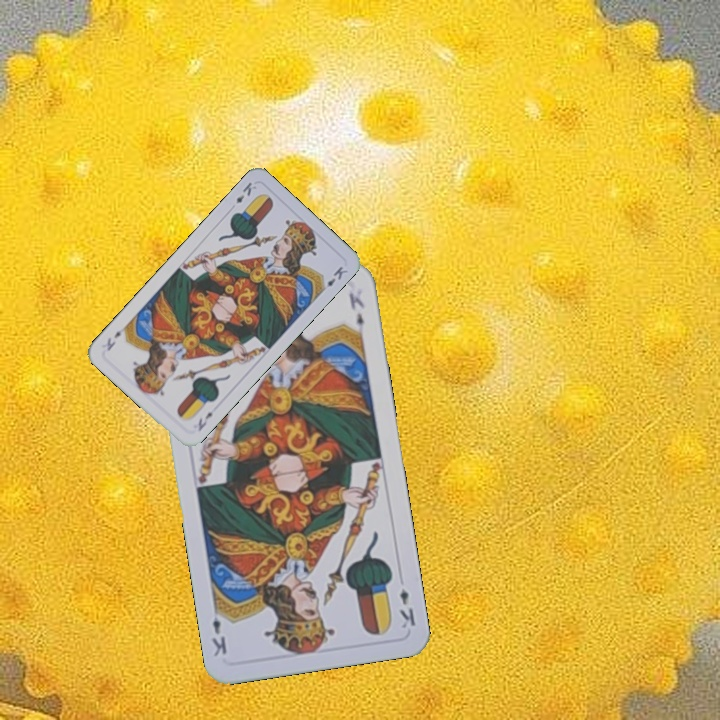EK: (395, 585, 418, 631), (232, 178, 259, 206), (194, 408, 216, 434)
